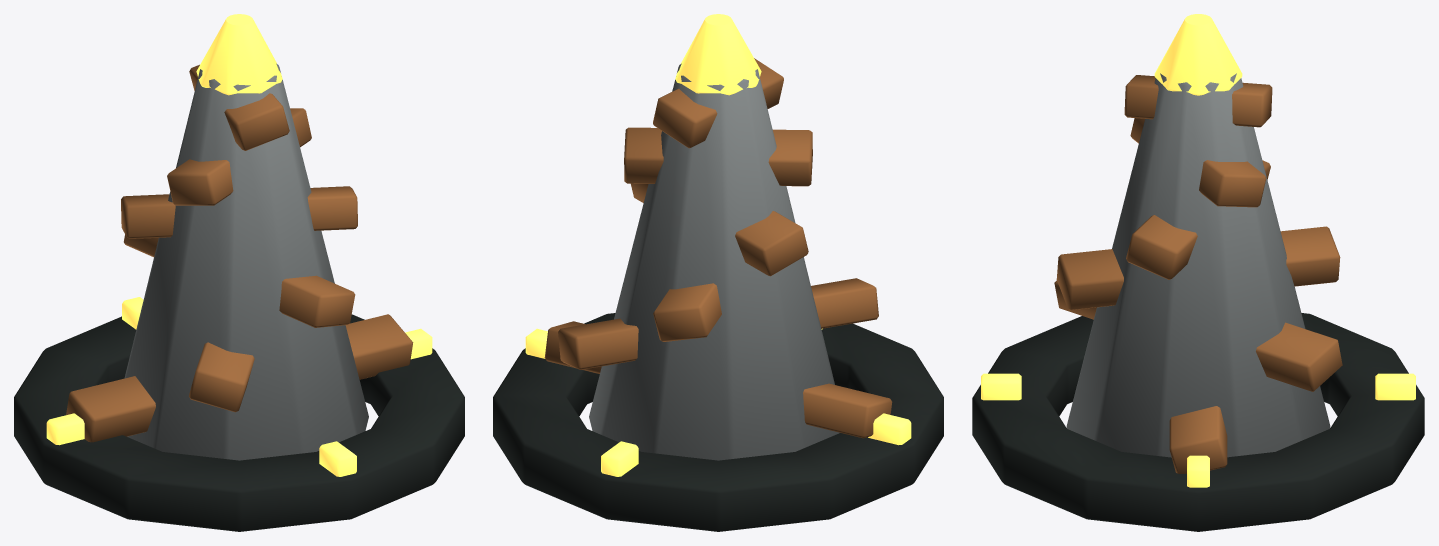
File: relic_drill_auger.glb
3 views of the same model, side by side, from view 1: azimuth 30°, elevation 25°; view 2: azimuth 150°, elevation 25°; view 3: azimuth 270°, elevation 25° (orthographic).
Parts seen in each view (by area): view 1: relic_drill_auger_mesh; view 2: relic_drill_auger_mesh; view 3: relic_drill_auger_mesh.
Boxes of the visible parts, box(x1,y1,x2,y2) form: relic_drill_auger_mesh: box(14, 14, 464, 531); relic_drill_auger_mesh: box(493, 14, 943, 531); relic_drill_auger_mesh: box(972, 14, 1424, 531).
Size of the model in its own units: 1.56 by 1.59 by 1.56.
